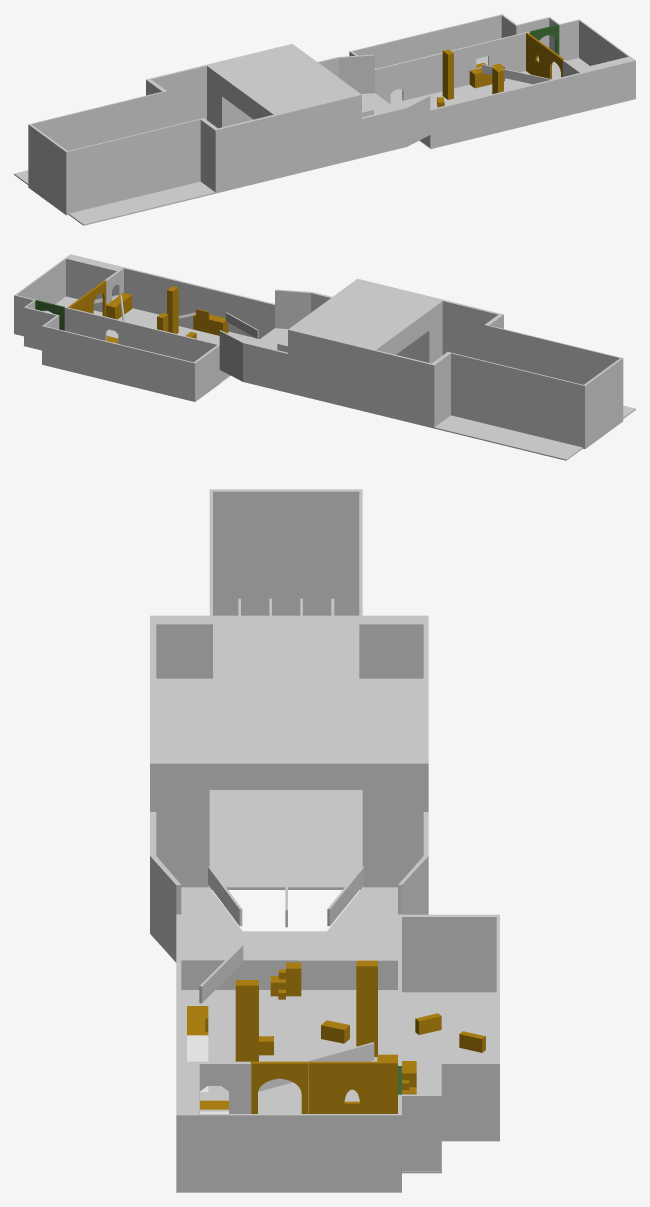
File: Prueba Pruebas Patrones.fbx
3 renders of one model, top to bottom at view 1: azimuth 30°, elevation 25°; view 2: azimuth 150°, elevation 25°; view 3: azimuth 270°, elevation 25°, orthographic. The views are drawn at different scales.
Parts seen in each view (by area): view 1: Cube.407, Cube.453, Cube.455, Cube.457, Cube.446, Cube.445, Cube.454; view 2: Cube.407, Cube.453, Cube.435, Cube.456, Cube.447, Cube.454, Cube.434, Cube.440, Cube.455; view 3: Cube.407, Cube.453, Cube.455, Cube.456, Cube.457, Cube.440, Cube.427, Cube.406, Cube.446.
Boxes of the visible parts, x1,y1,x2,y2 form: Cube.407: (14, 31, 635, 225); Cube.453: (349, 14, 635, 110); Cube.455: (526, 32, 549, 78); Cube.457: (442, 49, 453, 99); Cube.446: (482, 64, 552, 84); Cube.445: (469, 63, 504, 88); Cube.454: (529, 24, 559, 62); Cube.407: (14, 267, 635, 460); Cube.453: (14, 254, 219, 400); Cube.435: (193, 314, 228, 335); Cube.456: (167, 286, 178, 333); Cube.447: (106, 292, 132, 319); Cube.454: (35, 300, 64, 330); Cube.434: (225, 312, 258, 338); Cube.440: (90, 280, 106, 316); Cube.455: (68, 291, 91, 313); Cube.407: (150, 489, 499, 1192); Cube.453: (176, 914, 499, 1190); Cube.455: (308, 1061, 397, 1113); Cube.456: (235, 980, 258, 1061); Cube.457: (356, 960, 377, 1056); Cube.440: (250, 1061, 307, 1113); Cube.427: (208, 866, 364, 926); Cube.406: (238, 598, 334, 678); Cube.446: (258, 1042, 374, 1091).
Size of the model in its own units: 15271 by 2034 by 4123.
